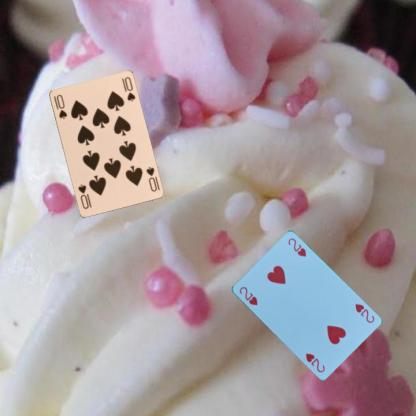10s: (51, 92, 68, 120), (143, 164, 158, 193)
2h: (352, 301, 376, 324), (236, 284, 258, 307)
